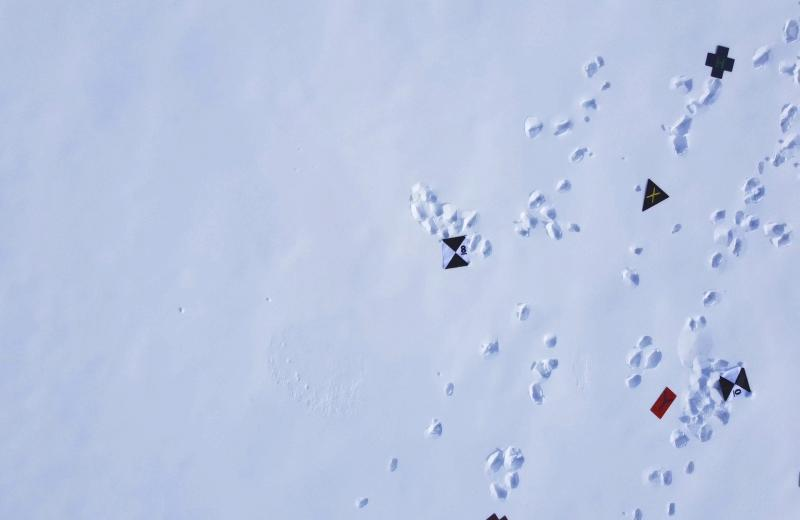Cross: (701, 34, 743, 91)
Rectangle: (638, 372, 693, 430)
Triangle: (630, 162, 676, 219)
